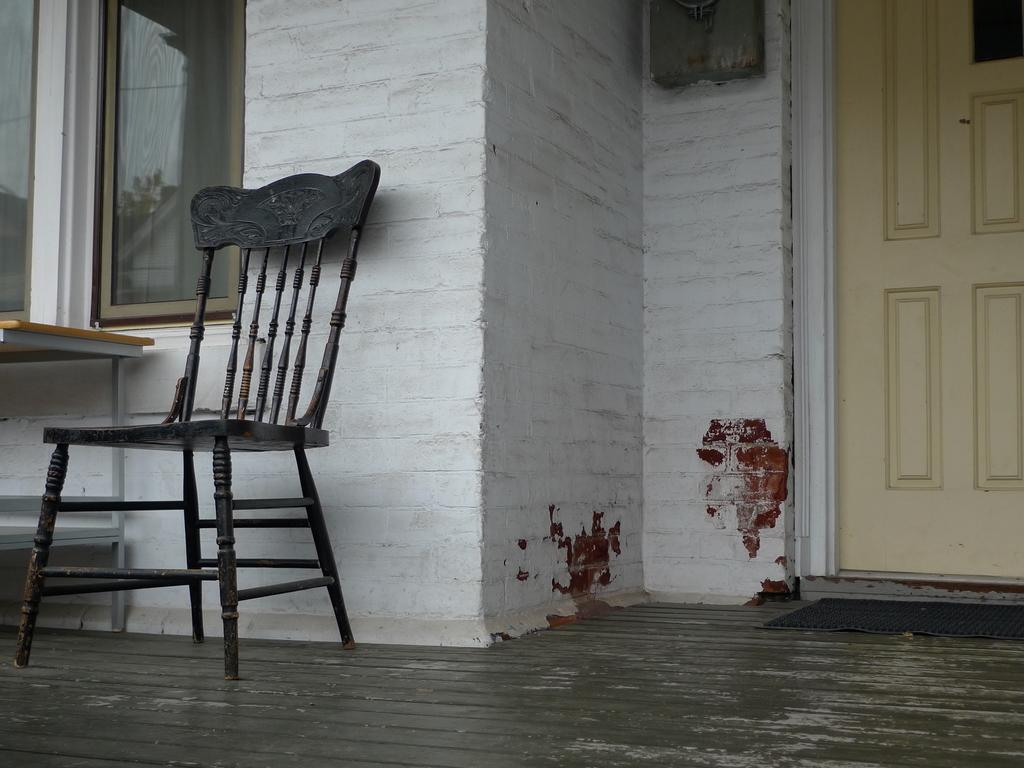Chair: (14, 161, 390, 677)
